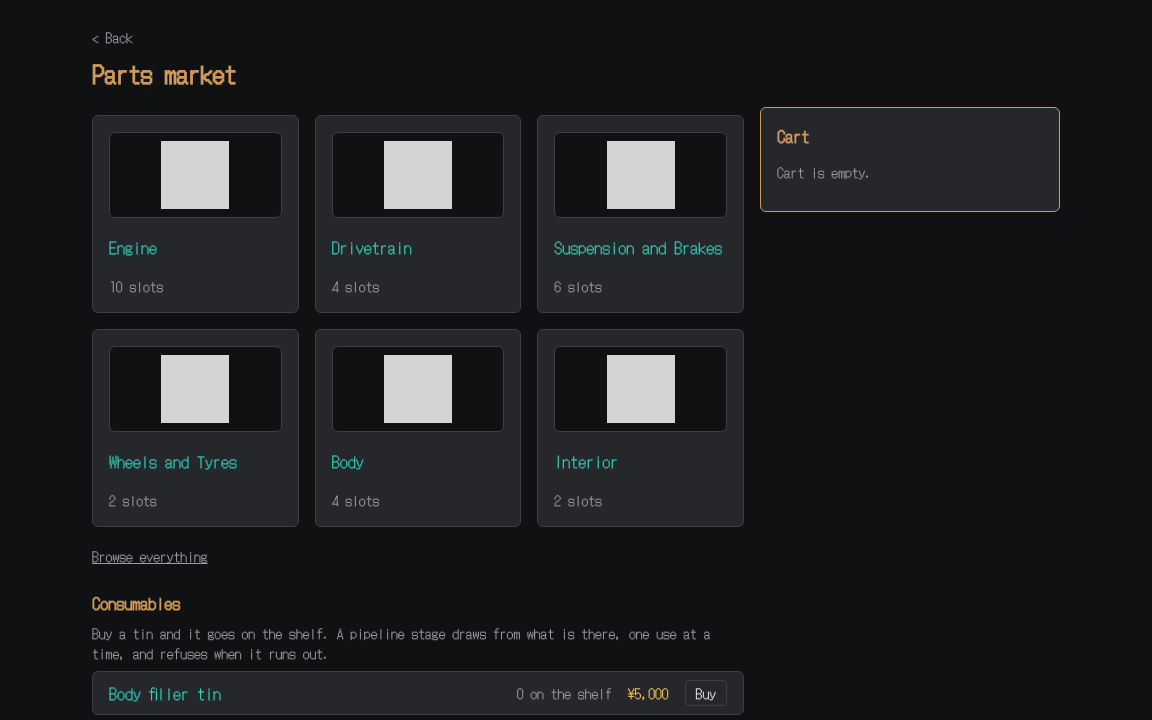
Test: PartsMarketScreen › the breadcrumb root returns from browse-everything back to the six heroes
Click the button with test id "browse-everything".
click(150, 556)  # box [92,546,208,566]
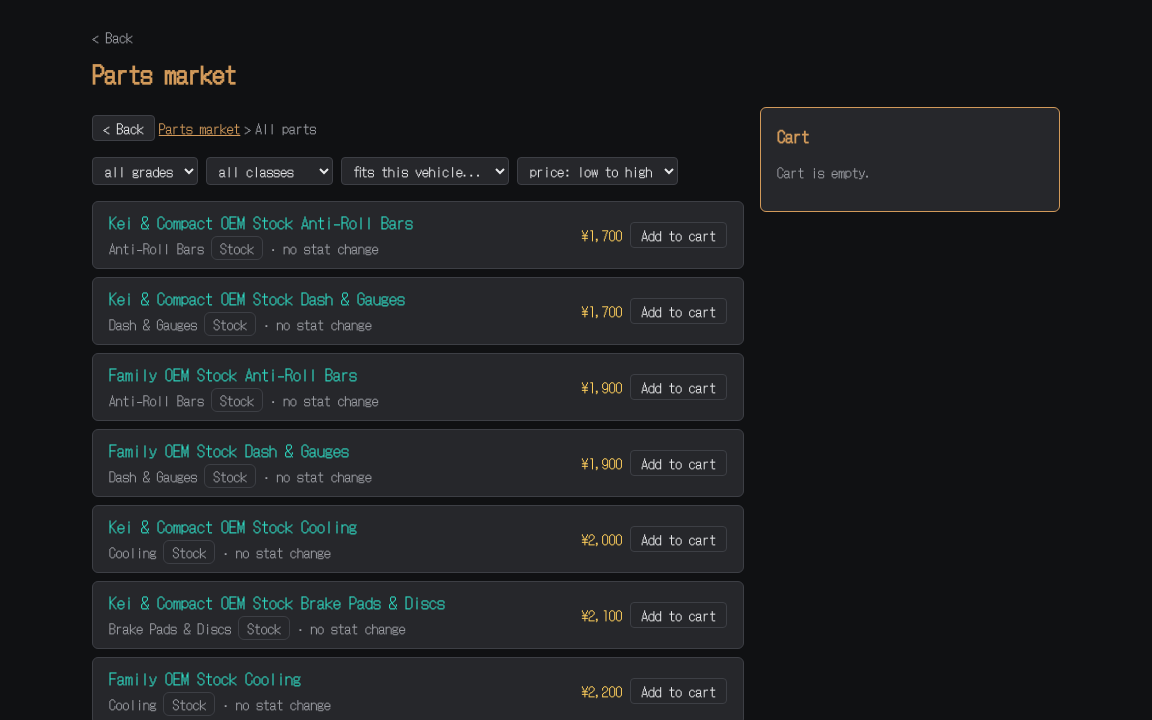
Expected: no buttons with class "hero-card" are shown
Click the button with test id "breadcrumb-root".
click(200, 128)  # box [159,118,240,138]
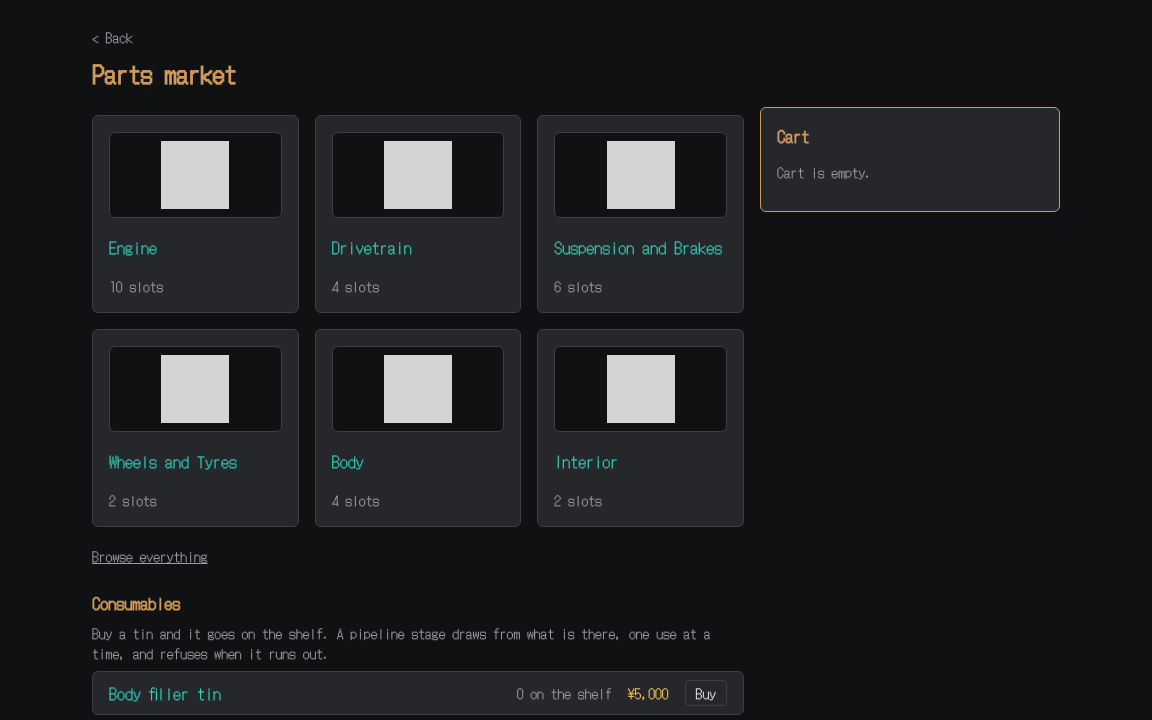
Expected: the number of buttons with class "hero-card" is 6, [92,115,299,313]; [315,115,521,313]; [537,115,744,313]; [92,329,299,527]; [315,329,521,527]; [537,329,744,527]
Expected: no list items are shown
